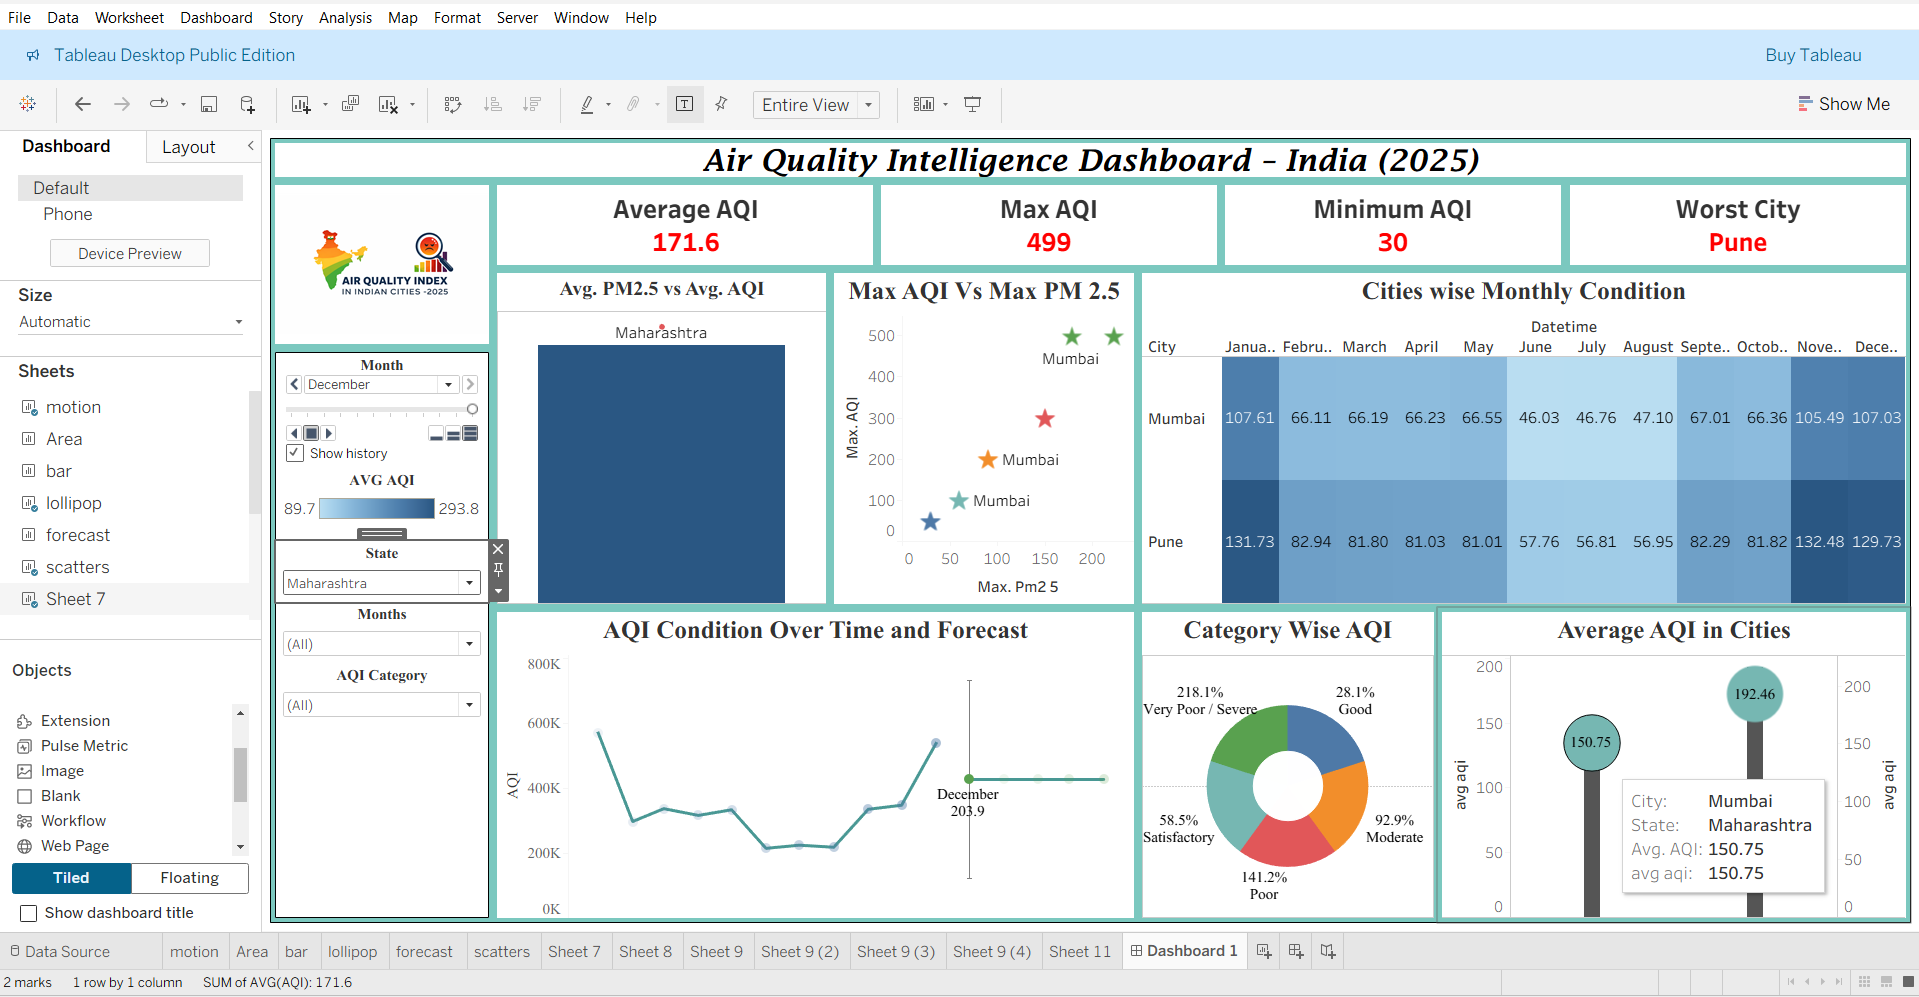

Layout of this report page (visuals, bound fields, positions):
{"tool":"tableau","page":{"name":"Dashboard 1","canvas":[1000,1000],"units":"permille","ordinal":0},"visuals":[{"type":"title","box":[5.4,11.2,989.1,52.4]},{"type":"image","param":"Image/ChatGPT Image Apr 19, 2026, 03_58_22 PM.png","box":[5.4,63.7,133.8,209.1]},{"type":"worksheet","title":"Sheet 9","mark":"Automatic","box":[139.2,63.7,232.1,109.9]},{"type":"worksheet","title":"Sheet 9 (2)","mark":"Automatic","box":[371.3,63.7,207.7,109.9]},{"type":"worksheet","title":"Sheet 9 (4)","mark":"Text","box":[579,63.7,207.8,109.9]},{"type":"worksheet","title":"Sheet 9 (3)","mark":"Text","box":[786.8,63.7,207.8,109.9]},{"type":"worksheet","title":"Sheet 7","mark":"Automatic","rows":["PM2_5","AQI"],"cols":["state"],"box":[139.2,173.6,203.7,423.6]},{"type":"worksheet","title":"scatters","mark":"Automatic","rows":["AQI"],"cols":["PM2_5"],"box":[343,173.6,185.7,423.6]},{"type":"worksheet","title":"Sheet 8","mark":"Square","rows":["city"],"cols":["datetime"],"box":[528.6,173.6,465.9,423.6]},{"type":"currpage","title":"motion","box":[8.4,279,127.8,143.6]},{"type":"legend","title":"Sheet 8","param":"[federated.19svdyv0bliaqp168vqvb1hg3psa].[usr:Calculation_7468094104119091200:qk","box":[8.4,422.6,127.8,91.1]},{"type":"filter","title":"Sheet 7","param":"[federated.19svdyv0bliaqp168vqvb1hg3psa].[none:state:nk]","box":[8.4,513.7,127.8,76.2]},{"type":"filter","title":"Sheet 7","param":"[federated.19svdyv0bliaqp168vqvb1hg3psa].[mn:datetime:ok]","box":[8.4,589.9,127.8,76.2]},{"type":"worksheet","title":"motion","mark":"Circle","rows":["AQI"],"cols":["datetime"],"box":[139.2,597.2,389.4,391.6]},{"type":"worksheet","title":"Sheet 11","mark":"Automatic","rows":["Calculation_8352207006634676227","Calculation_8352207006634688517"],"box":[528.6,597.2,180.8,391.6]},{"type":"worksheet","title":"lollipop","mark":"Bar","rows":["Calculation_7468094104119091200","Calculation_7468094104119091200"],"cols":["city"],"box":[709.5,597.2,285.1,391.6]},{"type":"filter","title":"Sheet 7","param":"[federated.19svdyv0bliaqp168vqvb1hg3psa].[none:AQI_Category:nk]","box":[8.4,666,127.8,76.2]}]}

Visuals, with their boxes on the dashboard's canvas, which has no fixed pixel size, in thousandths of its width and height (x1, y1, x2, y2). These are canvas units, not pixel positions in the 1919x997 screenshot, which may show the page scaled, cropped or inside an application window:
title: bbox=[5, 11, 994, 64]
image: bbox=[5, 64, 139, 273]
"Sheet 9" worksheet: bbox=[139, 64, 371, 174]
"Sheet 9 (2)" worksheet: bbox=[371, 64, 579, 174]
"Sheet 9 (4)" worksheet (Text marks): bbox=[579, 64, 787, 174]
"Sheet 9 (3)" worksheet (Text marks): bbox=[787, 64, 995, 174]
"Sheet 7" worksheet: bbox=[139, 174, 343, 597]
"scatters" worksheet: bbox=[343, 174, 529, 597]
"Sheet 8" worksheet (Square marks): bbox=[529, 174, 994, 597]
"motion" currpage: bbox=[8, 279, 136, 423]
"Sheet 8" legend: bbox=[8, 423, 136, 514]
"Sheet 7" filter: bbox=[8, 514, 136, 590]
"Sheet 7" filter: bbox=[8, 590, 136, 666]
"motion" worksheet (Circle marks): bbox=[139, 597, 529, 989]
"Sheet 11" worksheet: bbox=[529, 597, 709, 989]
"lollipop" worksheet (Bar marks): bbox=[710, 597, 995, 989]
"Sheet 7" filter: bbox=[8, 666, 136, 742]
